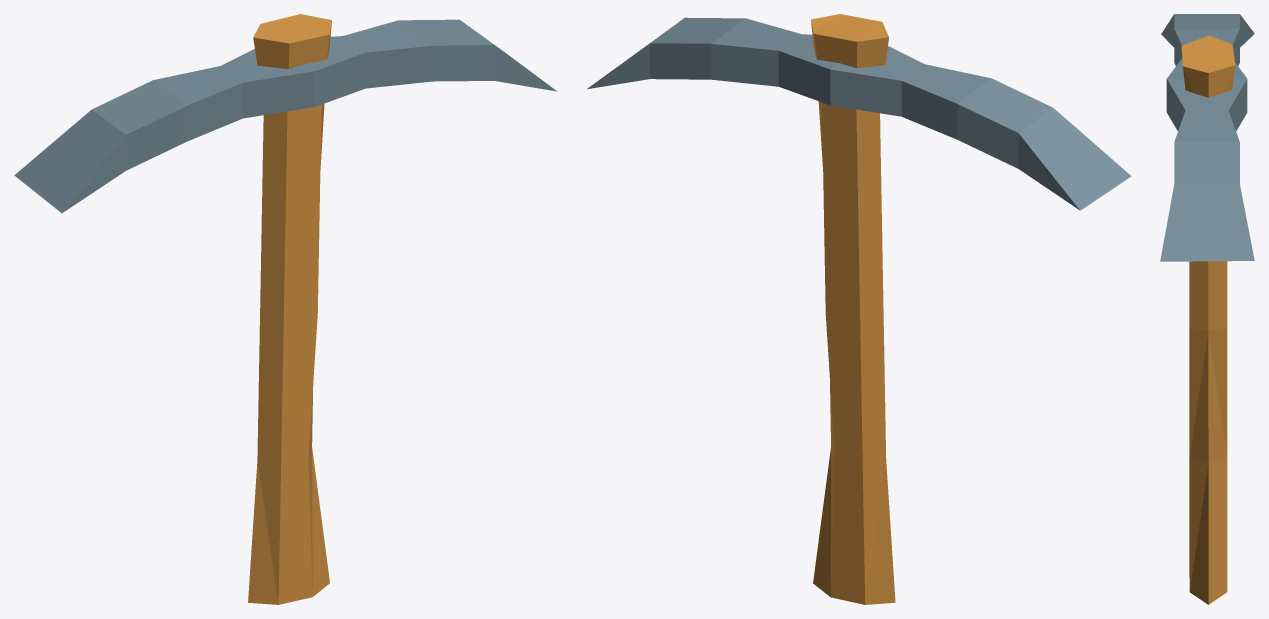
File: Simple Pickaxe.glb
The picture shows the model from 3 angles, left to right: view 1: azimuth 30°, elevation 25°; view 2: azimuth 150°, elevation 25°; view 3: azimuth 270°, elevation 25°; orthographic projection. The views are drawn at different scales.
Visible parts, largest first — view 1: group1377344500, group893600418; view 2: group1377344500, group893600418; view 3: group893600418, group1377344500.
Part boxes in pixels (x1,y1,x2,y2): group1377344500: (248, 14, 331, 604); group893600418: (14, 19, 556, 212); group1377344500: (811, 14, 895, 604); group893600418: (587, 17, 1131, 210); group893600418: (1160, 14, 1254, 261); group1377344500: (1181, 35, 1235, 604).
Size of the model in its own units: 0.7225 by 0.7865 by 0.1264.
